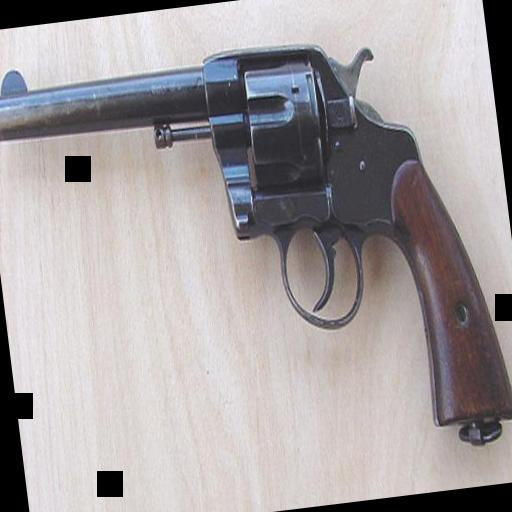Handgun: (0, 7, 512, 478)
